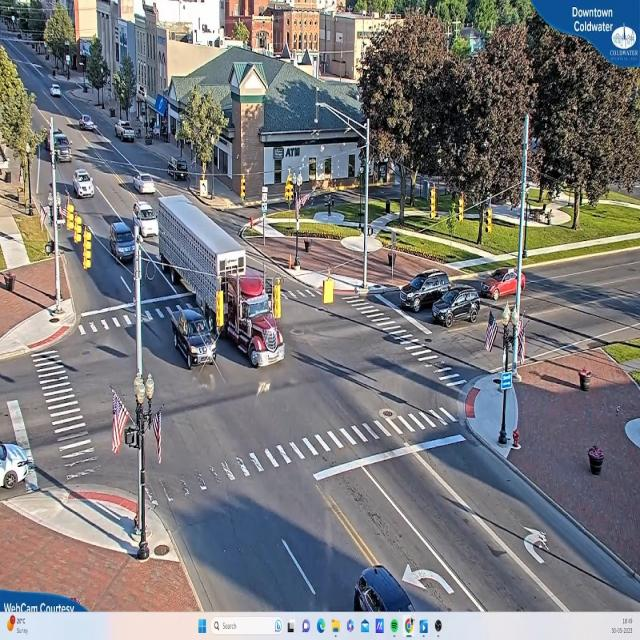car: (170, 306, 221, 365), (357, 566, 420, 610), (400, 272, 454, 313), (432, 289, 480, 327), (483, 270, 528, 304), (108, 219, 139, 264), (75, 169, 95, 198), (118, 120, 138, 143), (81, 118, 96, 132), (52, 85, 62, 98)
truck: (210, 230, 291, 382)
